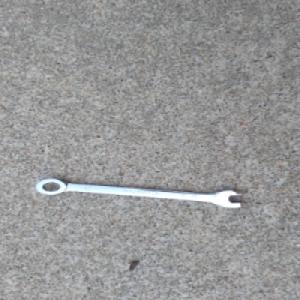Wrench: (33, 176, 245, 210)
